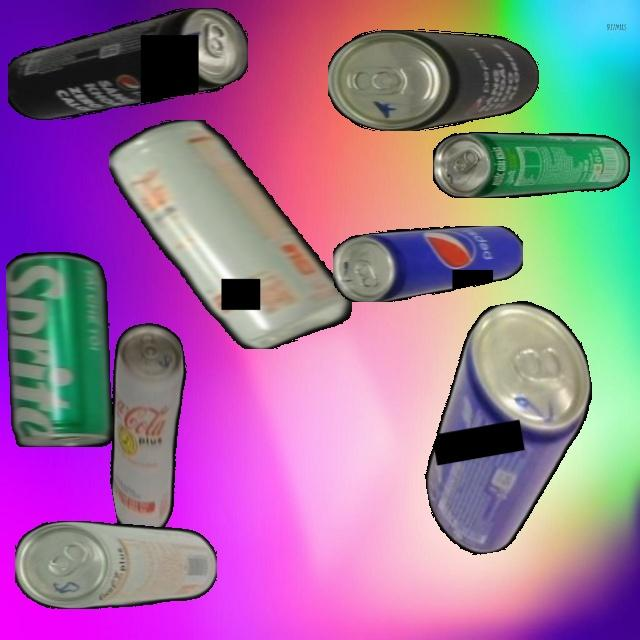debris: (398, 292, 617, 561), (109, 119, 352, 349), (85, 318, 214, 538), (7, 8, 248, 120), (328, 28, 539, 131), (6, 251, 113, 447), (15, 520, 217, 609), (333, 225, 523, 302), (433, 131, 630, 198)
